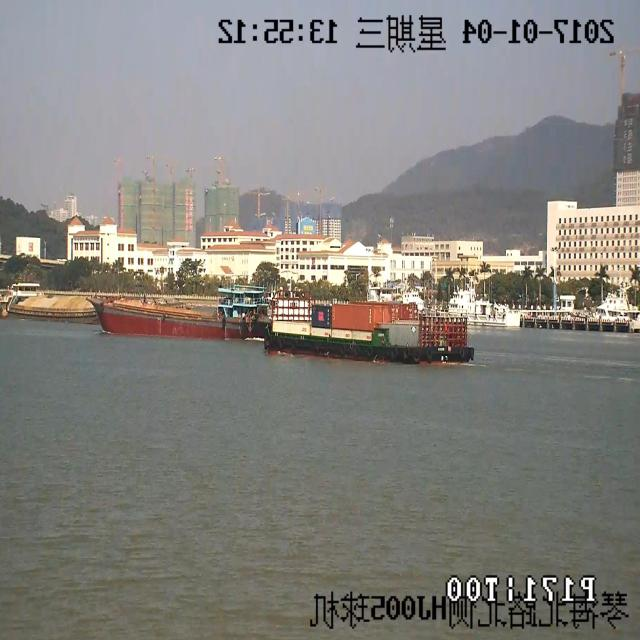cargoship: (271, 286, 465, 365), (102, 274, 260, 339)
